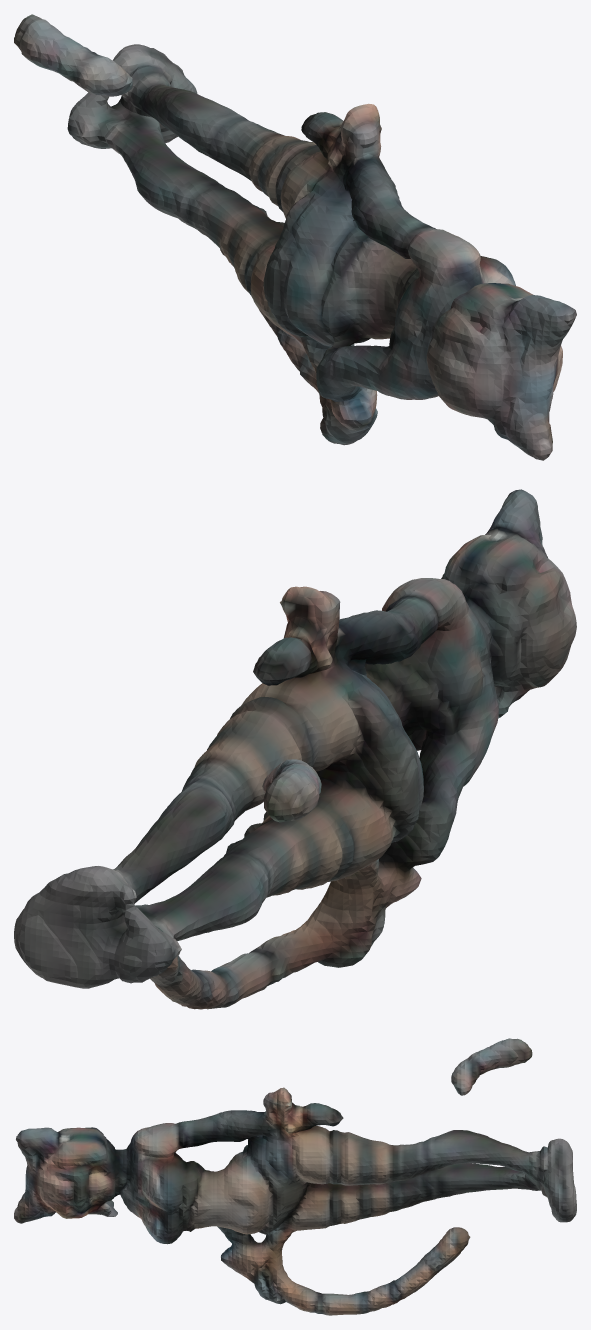
The model's file is tiger_girl.glb.
3 views of the same model, one above another, from view 1: azimuth 30°, elevation 25°; view 2: azimuth 150°, elevation 25°; view 3: azimuth 270°, elevation 25° (orthographic). The views are drawn at different scales.
Visible parts, largest first — view 1: world; view 2: world; view 3: world.
Part boxes in pixels (x1,y1,x2,y2): world: (14, 14, 576, 460); world: (14, 489, 576, 1009); world: (14, 1038, 576, 1315).
Bounding box in the file's own units: 0.336 × 0.4421 × 1.02.
